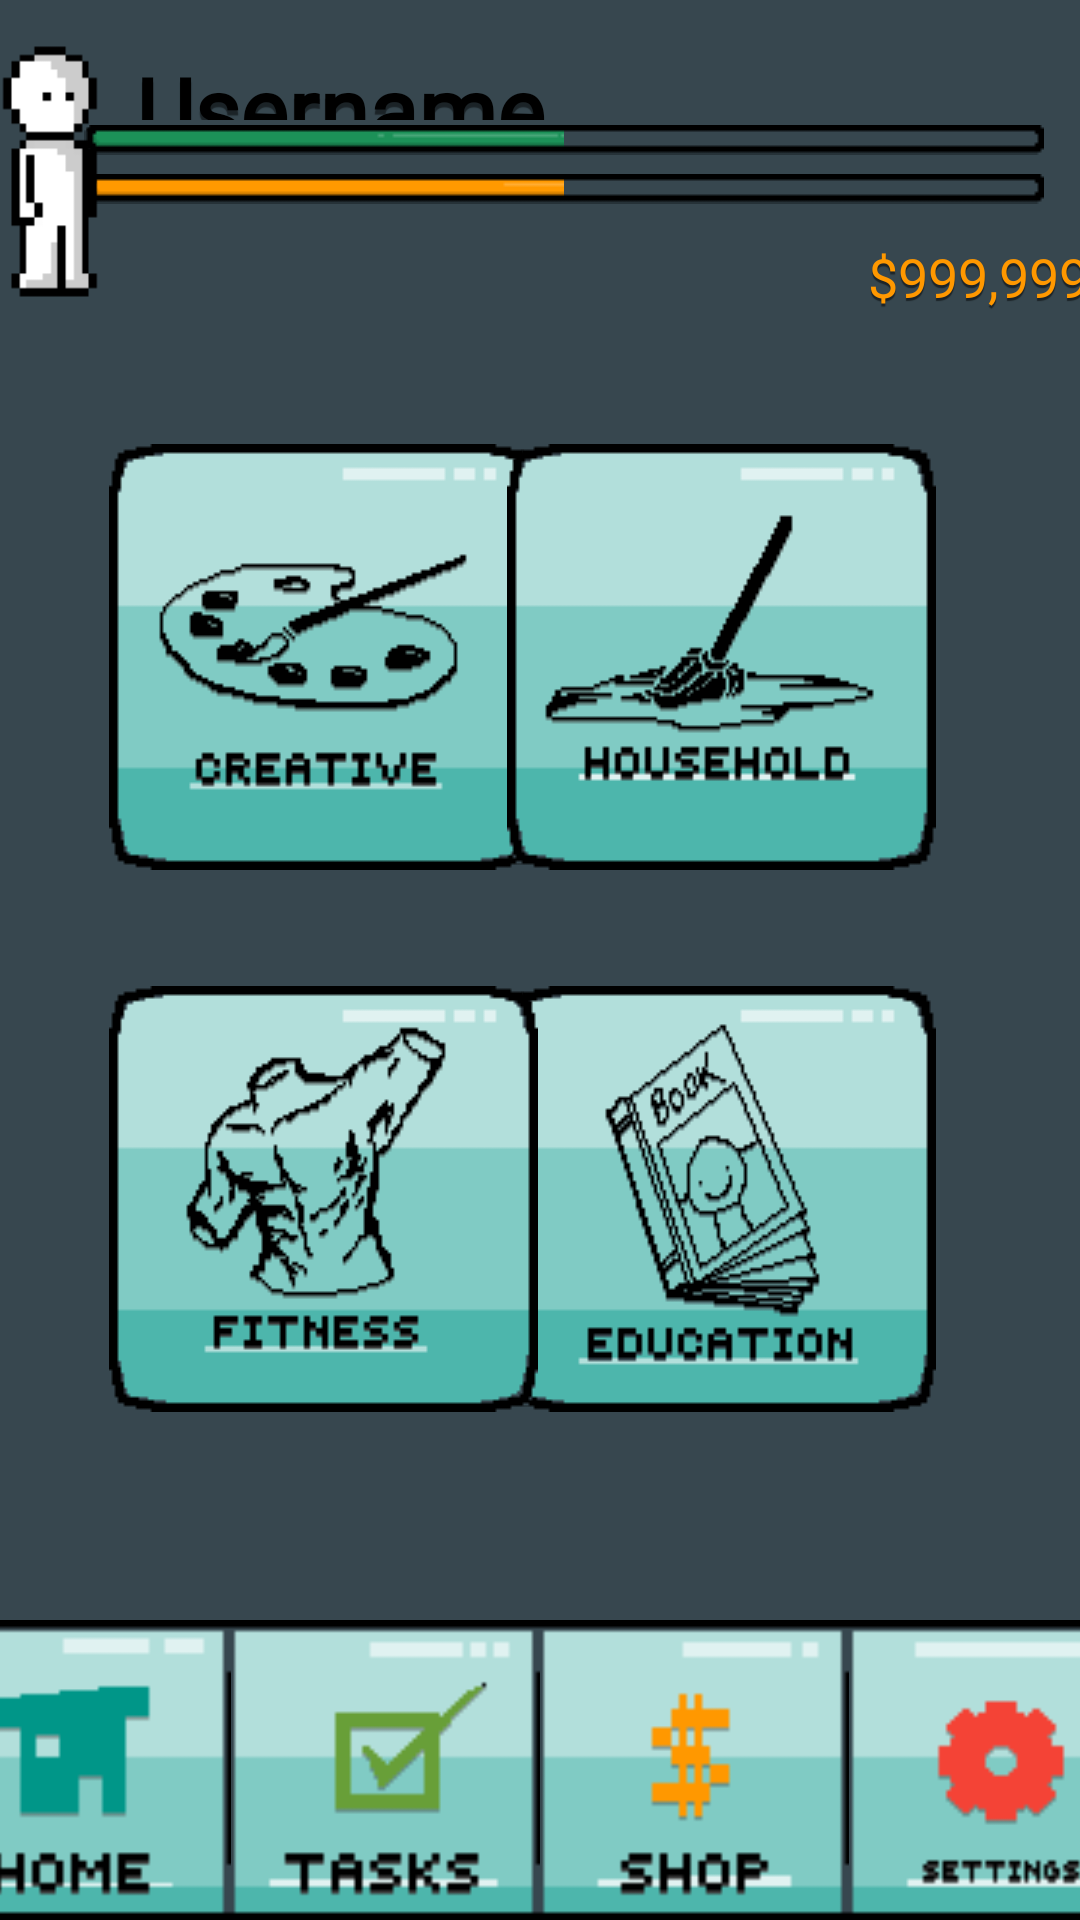

Where to tap for icons on this 1080 × 1920 app screen, as (x,y):
sprite: (52,171)
